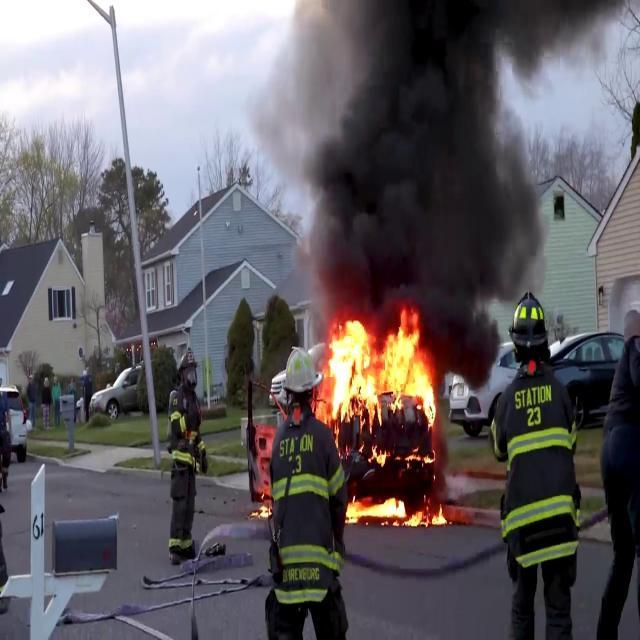Fire: (316, 308, 440, 424), (343, 491, 445, 526)
Smoke: (290, 0, 556, 343)
